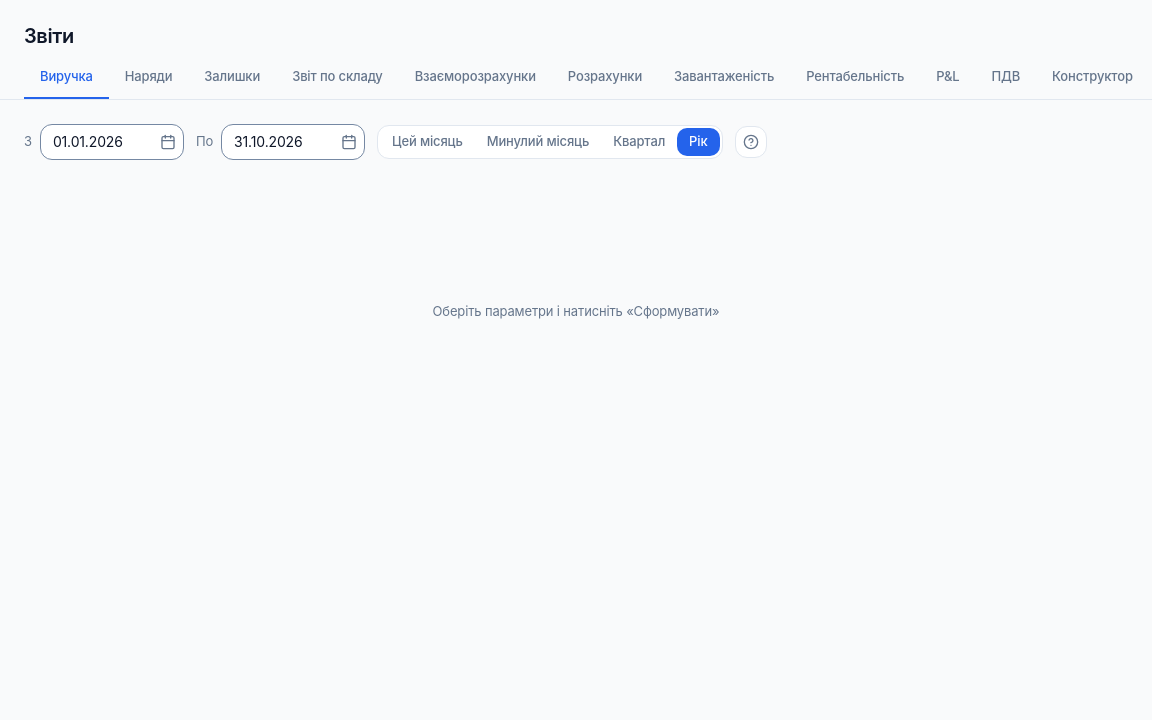
Звіти — «?» за вкладкою › revenue: «?» пояснює саме цей звіт
Click the button named "Як рахується «Виручка»": (750, 142) [734, 126, 766, 158]
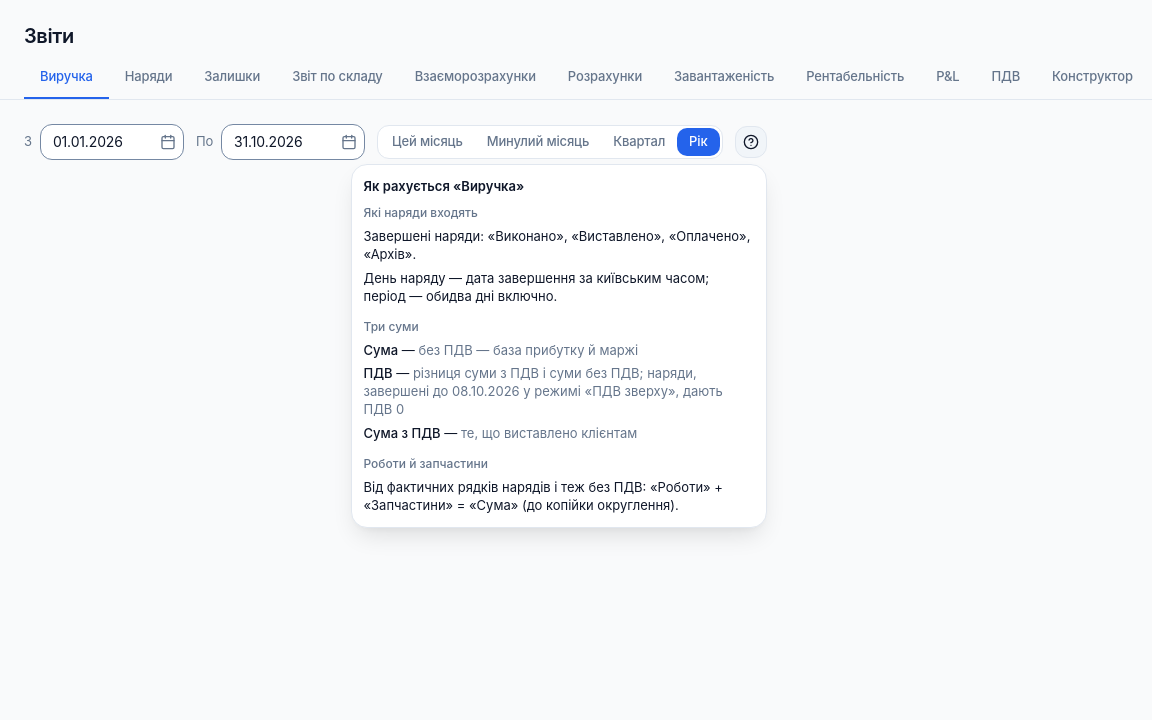
Now the dialog shows "до 08.10.2026", box [364, 365, 723, 417]
